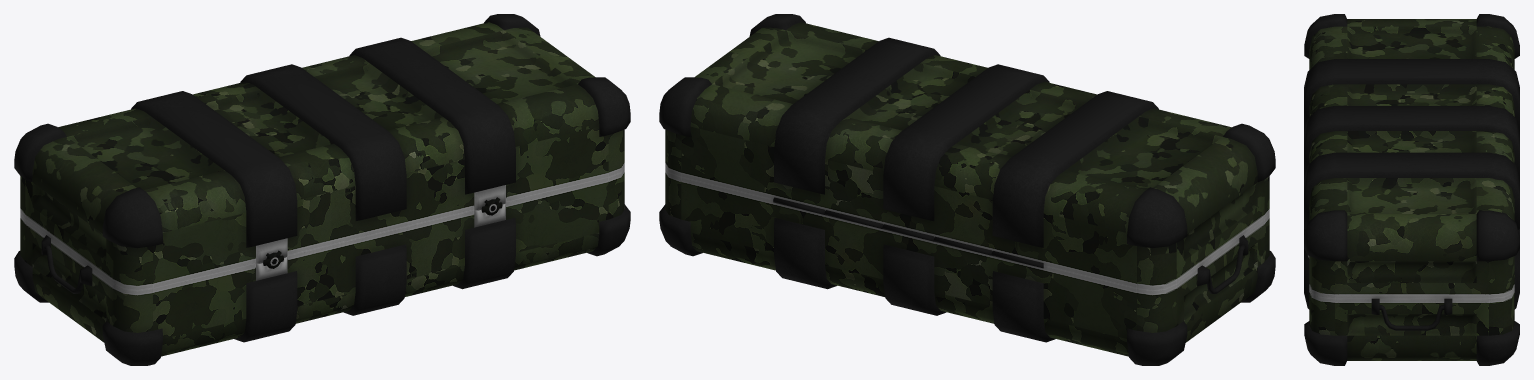
File: weapon_box.glb
3 views of the same model, side by side, from view 1: azimuth 30°, elevation 25°; view 2: azimuth 150°, elevation 25°; view 3: azimuth 270°, elevation 25° (orthographic). The views are drawn at different scales.
Visible parts, largest first — view 1: ammo_LOW; view 2: ammo_LOW; view 3: ammo_LOW.
Boxes of the visible parts, <box> form: ammo_LOW: <box>14,14,630,365</box>; ammo_LOW: <box>659,14,1275,365</box>; ammo_LOW: <box>1304,14,1519,365</box>.
Size of the model in its own units: 1.13 by 0.3519 by 0.462.
Materials: 1 (1 with a texture image).
